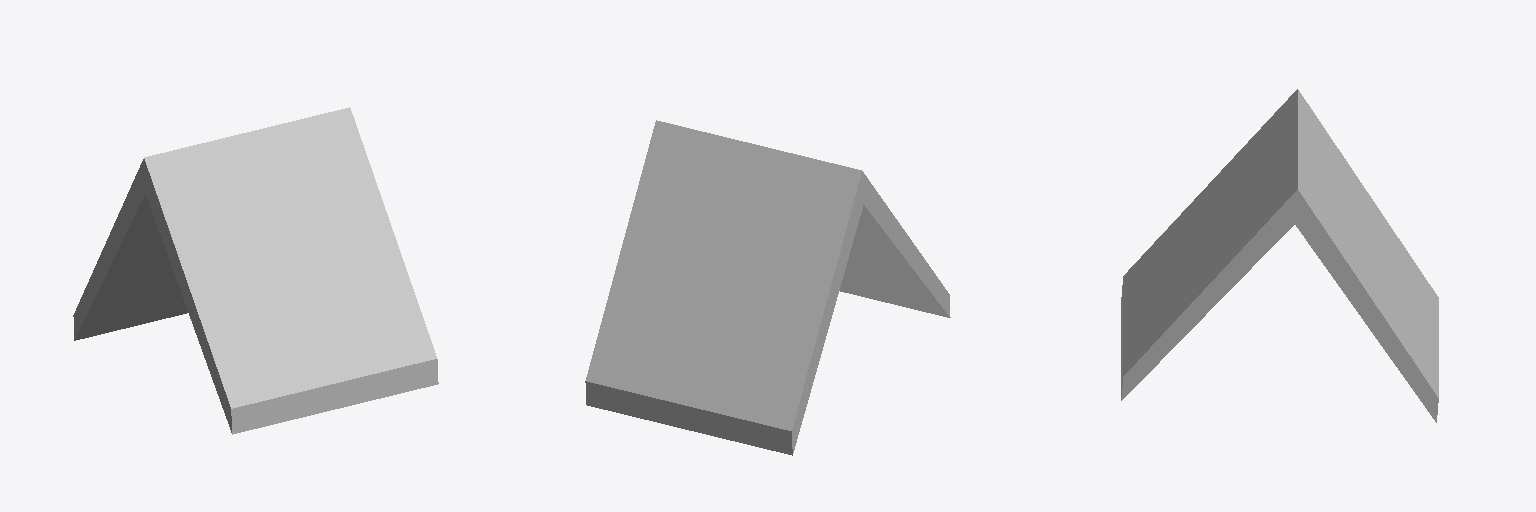
The model's file is roof outer2.obj.
The picture shows the model from 3 angles: view 1: azimuth 30°, elevation 25°; view 2: azimuth 150°, elevation 25°; view 3: azimuth 270°, elevation 25°; orthographic projection.
Visible parts, largest first — view 1: roof_outer; view 2: roof_outer; view 3: roof_outer.
Boxes of the visible parts, x1,y1,x2,y2 form: roof_outer: [73, 107, 438, 434]; roof_outer: [585, 120, 950, 455]; roof_outer: [1121, 89, 1438, 422].
Size of the model in its own units: 63.05 by 68.43 by 84.09.